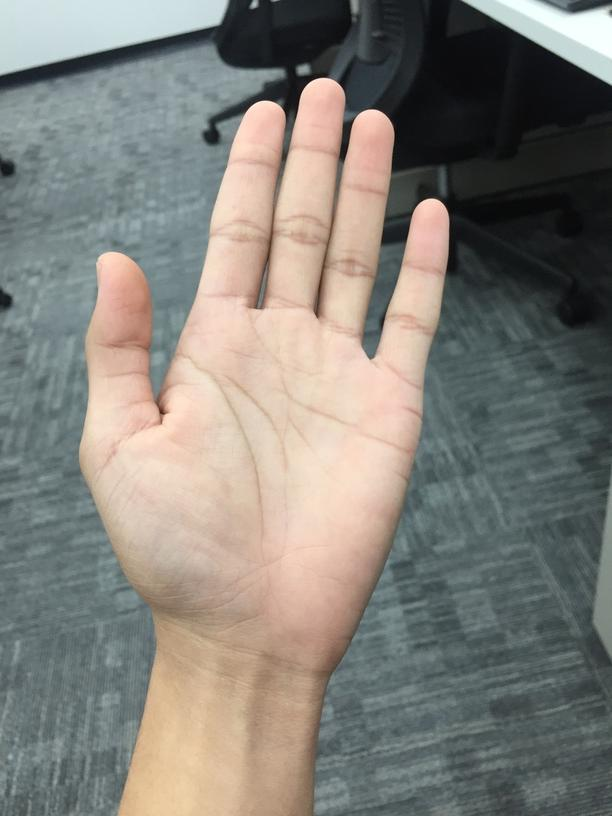hand: (76, 76, 453, 678)
